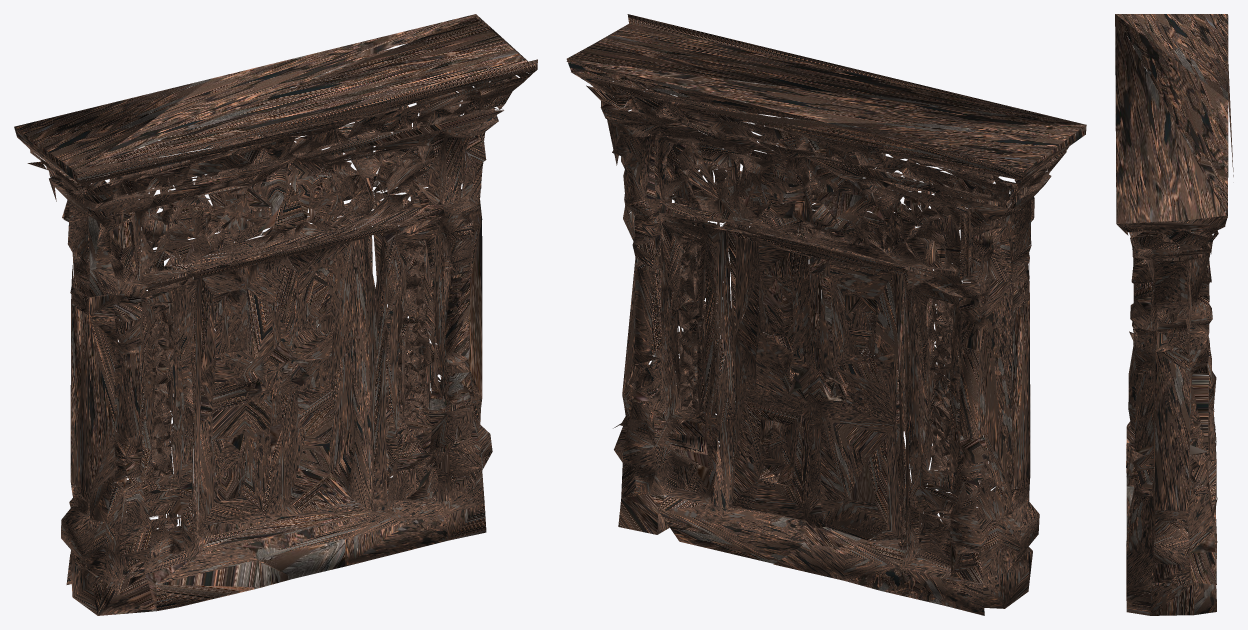
The model's file is doorway_lite.glb.
The picture shows the model from 3 angles, left to right: view 1: azimuth 30°, elevation 25°; view 2: azimuth 150°, elevation 25°; view 3: azimuth 270°, elevation 25°; orthographic projection. The views are drawn at different scales.
Parts seen in each view (by area): view 1: doorway; view 2: doorway; view 3: doorway.
Part boxes in pixels (left/top/right/bottom): doorway: left=14, top=14, right=537, bottom=615; doorway: left=566, top=14, right=1086, bottom=615; doorway: left=1115, top=14, right=1233, bottom=615.
Size of the model in its own units: 1.81 by 1.75 by 0.4492.
1 material, 1 textured.
